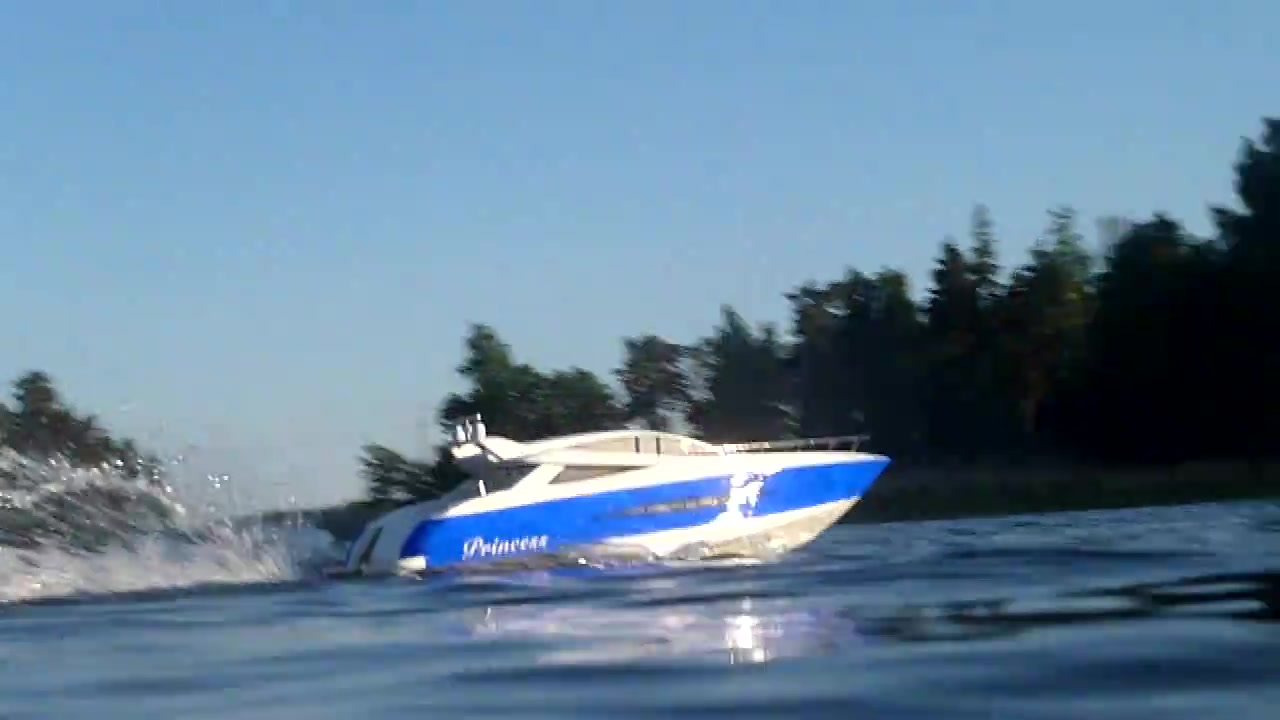boat: (342, 413, 895, 587)
